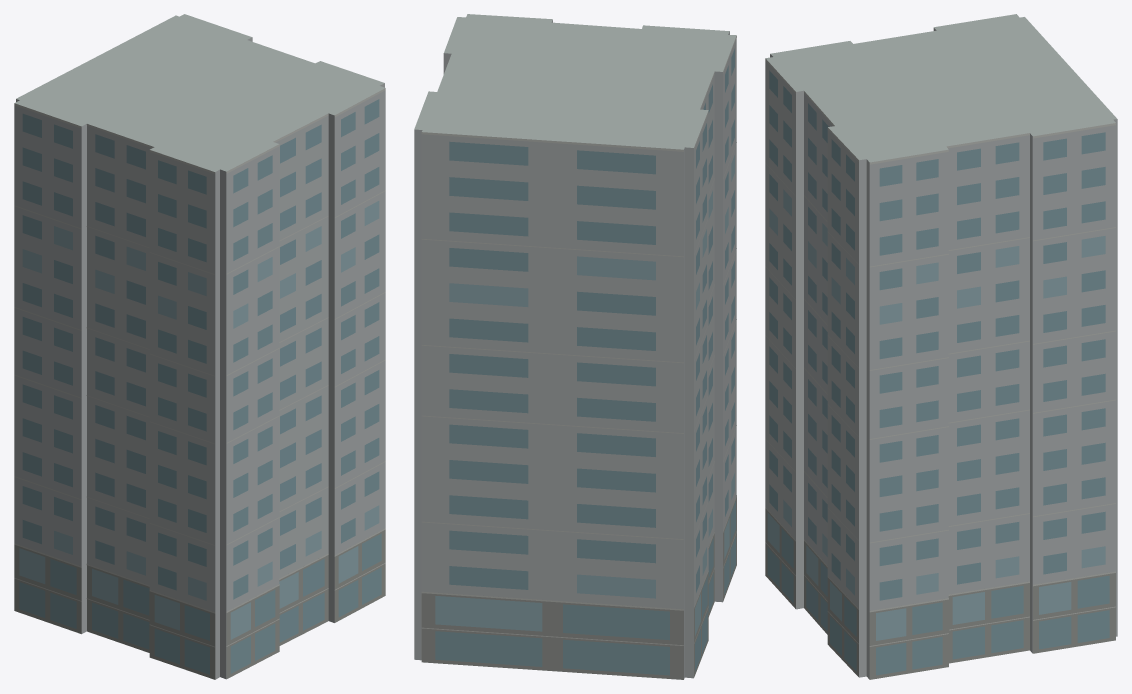
The model's file is survey-upis-32838083.glb.
3 renders of one model, left to right at view 1: azimuth 30°, elevation 25°; view 2: azimuth 150°, elevation 25°; view 3: azimuth 270°, elevation 25°, orthographic. The views are drawn at different scales.
Parts seen in each view (by area): view 1: survey-upis-32838083.tmp; view 2: survey-upis-32838083.tmp; view 3: survey-upis-32838083.tmp.
Boxes of the visible parts, x1,y1,x2,y2 form: survey-upis-32838083.tmp: [14, 14, 385, 679]; survey-upis-32838083.tmp: [414, 14, 736, 679]; survey-upis-32838083.tmp: [765, 14, 1117, 679].
Bounding box in the file's own units: 35.73 × 58 × 35.81.
